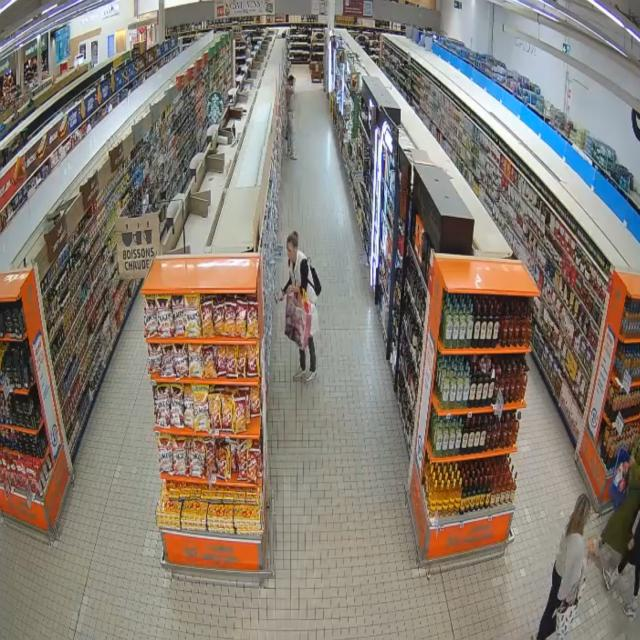article: (273, 287, 285, 305)
bags: (556, 567, 587, 639), (285, 294, 312, 350), (609, 448, 631, 508), (302, 290, 319, 336), (308, 258, 321, 296)
hands: (628, 538, 634, 551)
person: (535, 494, 590, 639), (601, 441, 639, 555), (604, 510, 639, 619), (282, 232, 316, 307), (286, 75, 296, 159)
